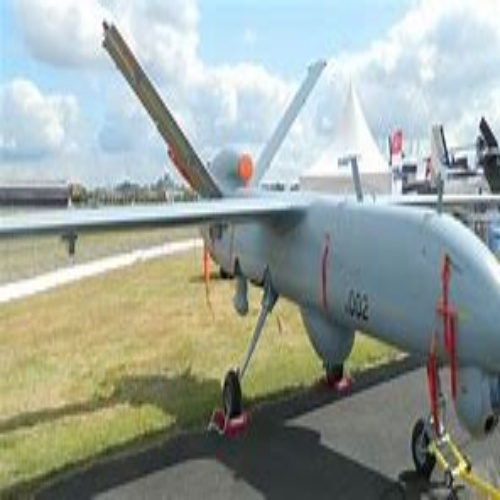uav: (1, 29, 499, 469)
